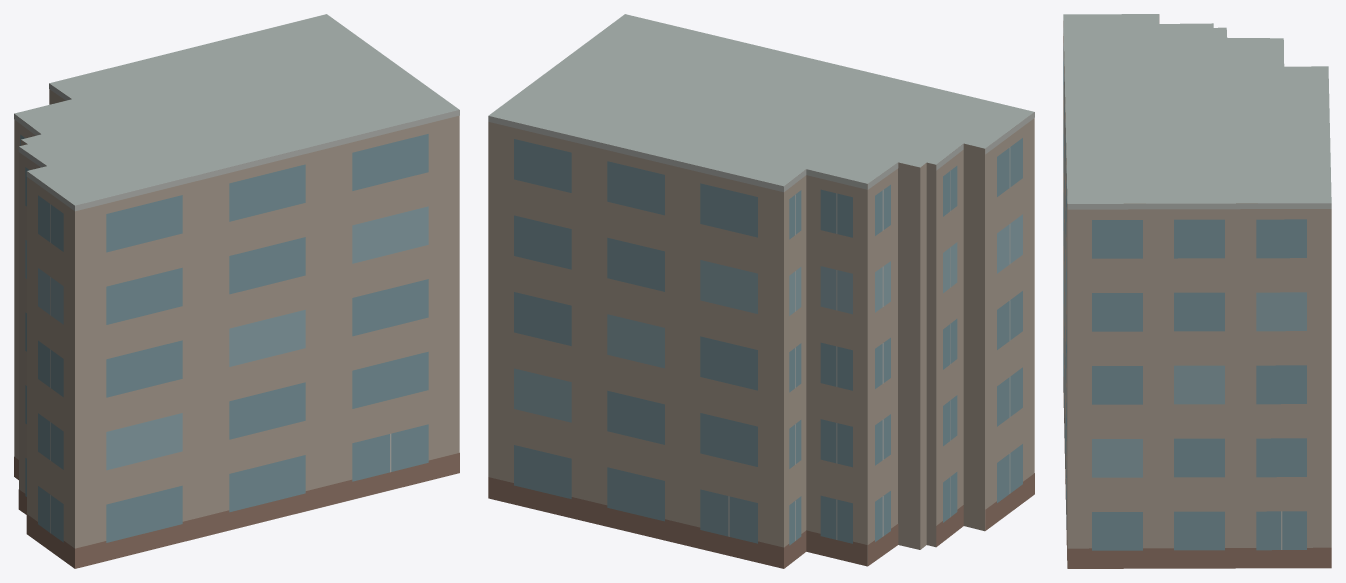
File: survey-upis-32659531.glb
The picture shows the model from 3 angles, left to right: view 1: azimuth 30°, elevation 25°; view 2: azimuth 150°, elevation 25°; view 3: azimuth 270°, elevation 25°; orthographic projection. The views are drawn at different scales.
Visible parts, largest first — view 1: survey-upis-32659531.tmp; view 2: survey-upis-32659531.tmp; view 3: survey-upis-32659531.tmp.
Boxes of the visible parts, x1,y1,x2,y2 form: survey-upis-32659531.tmp: (14, 14, 459, 568); survey-upis-32659531.tmp: (488, 14, 1034, 568); survey-upis-32659531.tmp: (1063, 14, 1331, 568).
Bounding box in the file's own units: 17.42 × 15.6 × 10.41.
